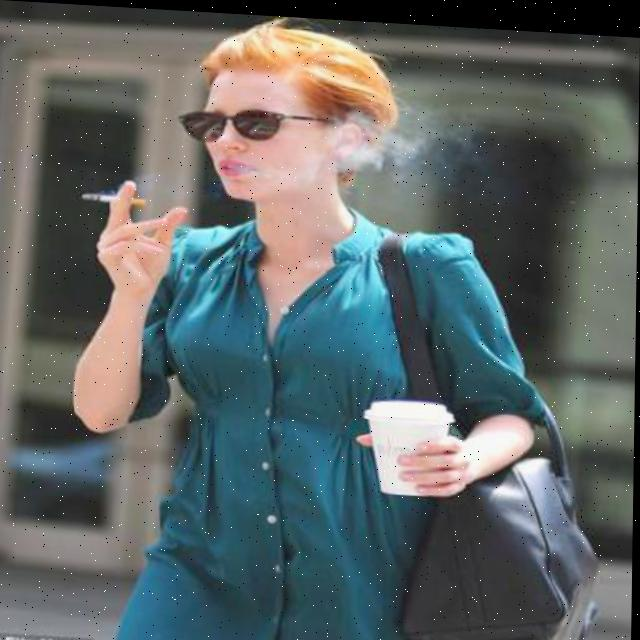cigarette: (82, 193, 147, 204)
